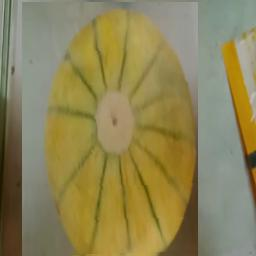Melon Fresh: (22, 2, 198, 256)
